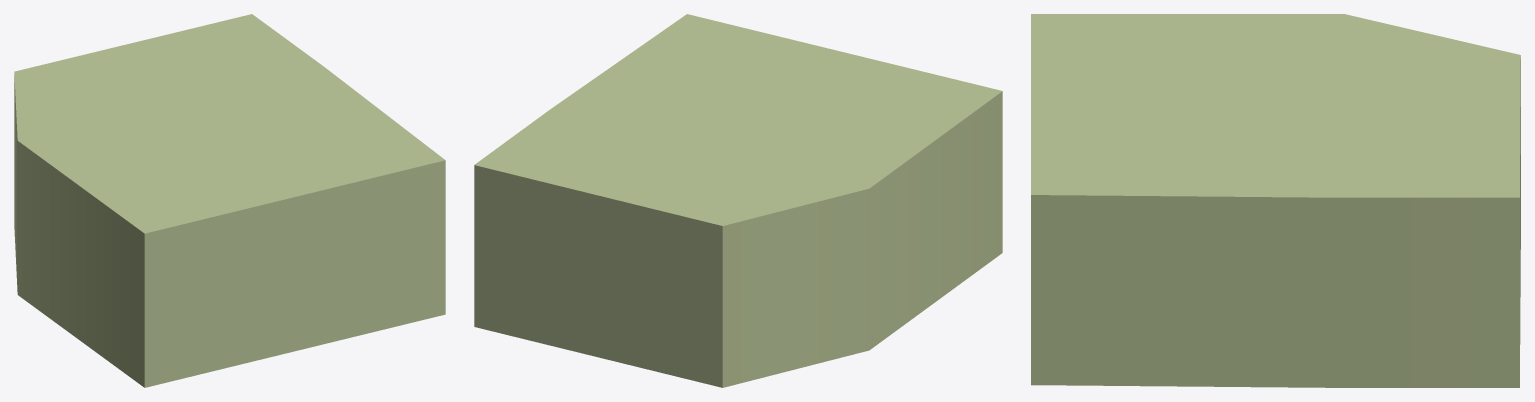
The model's file is ground_7.gltf.
The picture shows the model from 3 angles, left to right: view 1: azimuth 30°, elevation 25°; view 2: azimuth 150°, elevation 25°; view 3: azimuth 270°, elevation 25°; orthographic projection. The views are drawn at different scales.
Visible parts, largest first — view 1: library; view 2: library; view 3: library.
Part boxes in pixels (<box>): library: <box>14,14,445,387</box>; library: <box>474,14,1002,387</box>; library: <box>1031,14,1520,387</box>.
Size of the model in its own units: 4.36 by 2.1 by 4.91.
